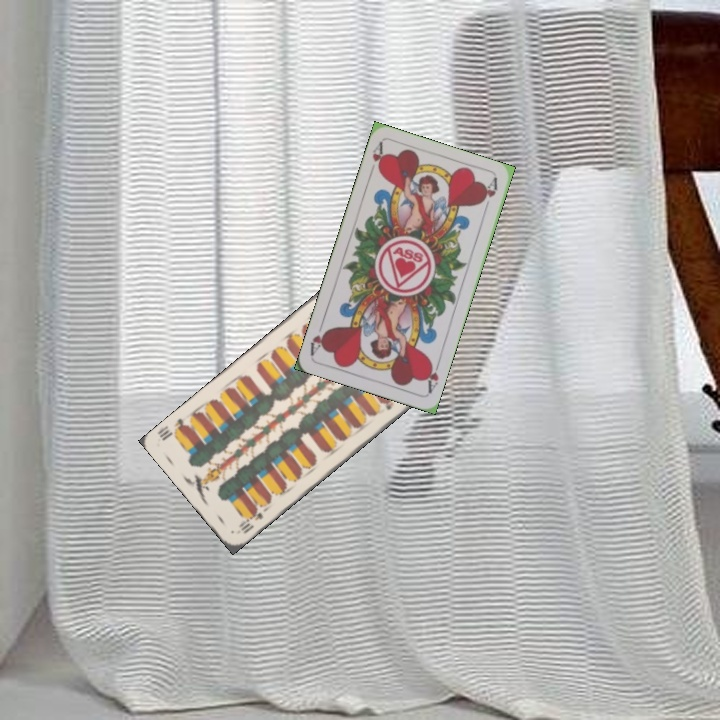E10: (235, 504, 266, 536)
HA: (365, 139, 388, 178), (421, 356, 443, 396)
